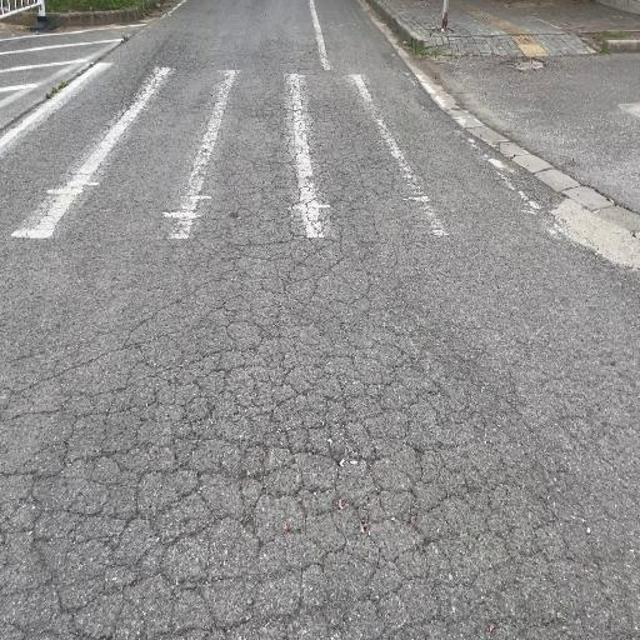Retak Buaya: (0, 212, 589, 640)
